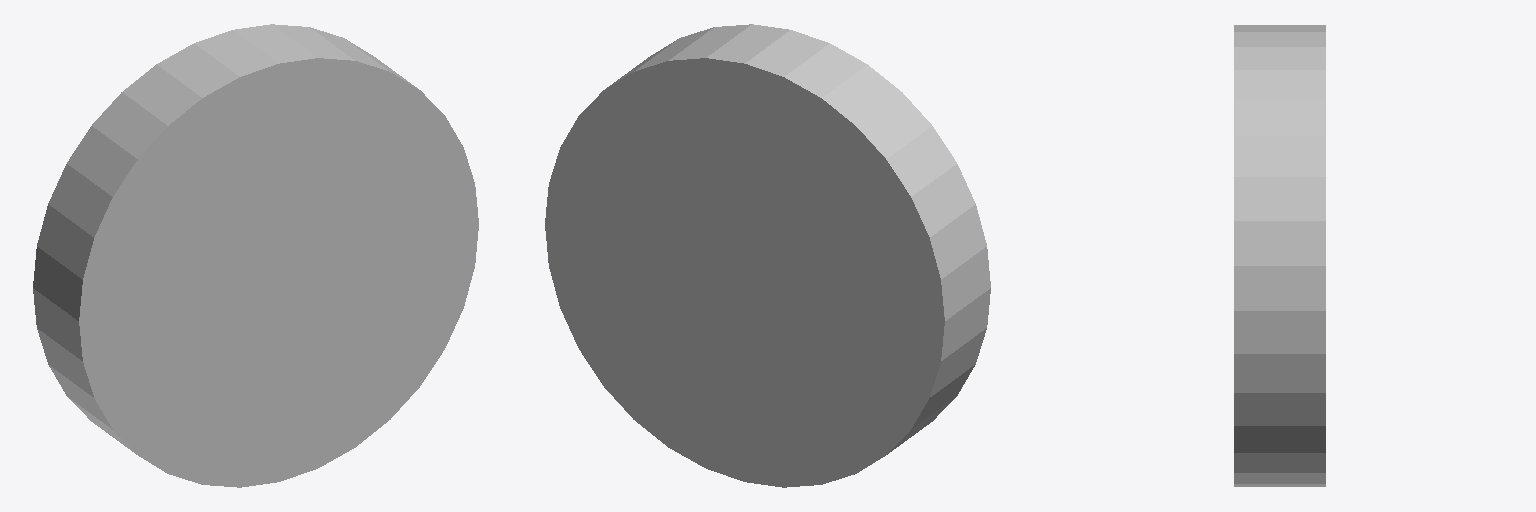
Rendered from jalan.obj.
3 views of the same model, side by side, from view 1: azimuth 30°, elevation 25°; view 2: azimuth 150°, elevation 25°; view 3: azimuth 270°, elevation 25° (orthographic).
Parts seen in each view (by area): view 1: Cylinder_Cylinder.001; view 2: Cylinder_Cylinder.001; view 3: Cylinder_Cylinder.001.
Part boxes in pixels (left/top/right/bottom): Cylinder_Cylinder.001: left=33, top=24, right=478, bottom=487; Cylinder_Cylinder.001: left=545, top=24, right=990, bottom=487; Cylinder_Cylinder.001: left=1234, top=25, right=1325, bottom=486.
Bounding box in the file's own units: 2 × 2 × 0.4.